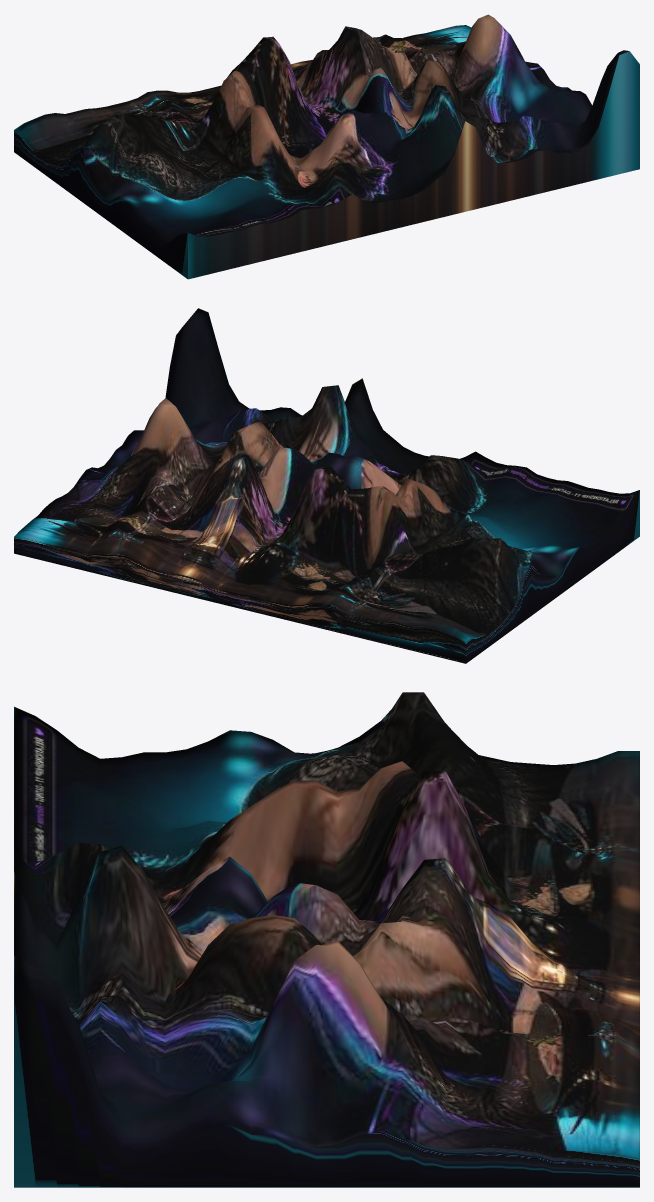
File: RELATIONSHIP_11_Dating.glb
3 renders of one model, top to bottom at view 1: azimuth 30°, elevation 25°; view 2: azimuth 150°, elevation 25°; view 3: azimuth 270°, elevation 25°, orthographic. The views are drawn at different scales.
Parts seen in each view (by area): view 1: RELATIONSHIP_11_Dating; view 2: RELATIONSHIP_11_Dating; view 3: RELATIONSHIP_11_Dating.
Boxes of the visible parts, left/top/right/bottom form: RELATIONSHIP_11_Dating: left=14, top=14, right=639, bottom=279; RELATIONSHIP_11_Dating: left=14, top=308, right=639, bottom=663; RELATIONSHIP_11_Dating: left=14, top=692, right=639, bottom=1187.
Bounding box in the file's own units: 2 × 0.51 × 1.33.
1 material, 1 textured.
